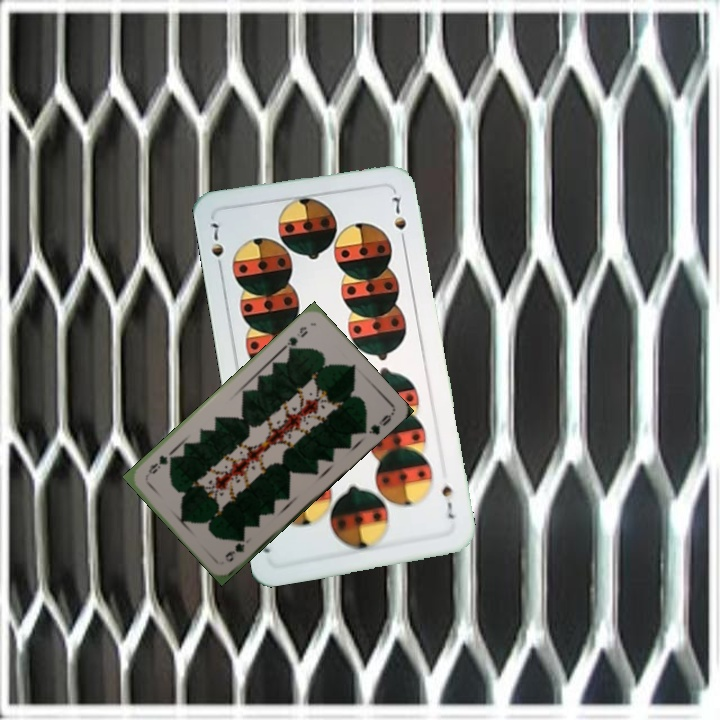G9: (280, 322, 311, 354), (221, 533, 248, 564)
S7: (206, 219, 226, 275), (438, 482, 457, 522)
